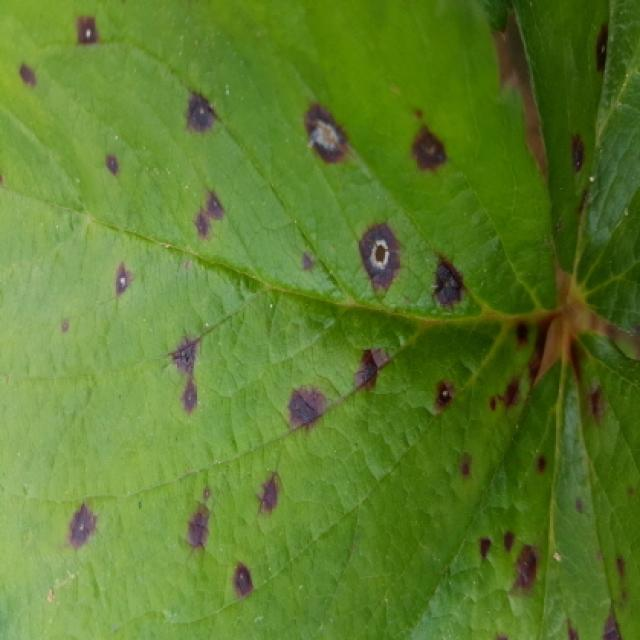Leaf Spot: (402, 327, 638, 638), (510, 0, 638, 338)
